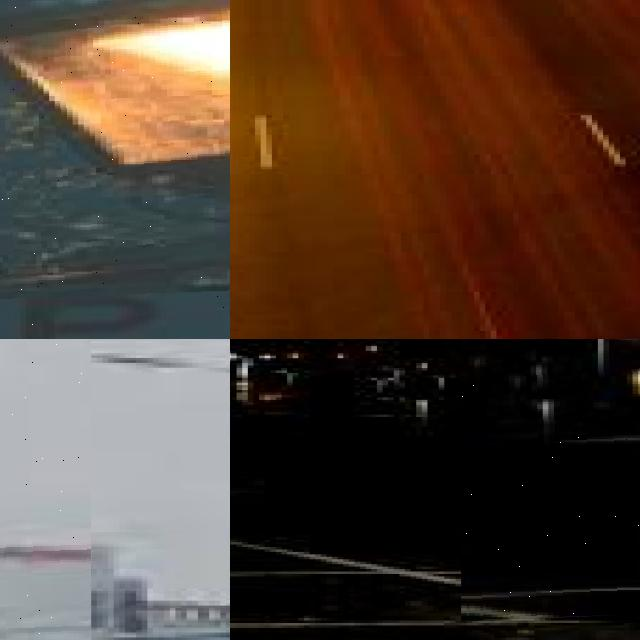street light: (0, 0, 230, 339), (461, 339, 640, 620), (91, 341, 230, 640), (0, 339, 91, 640), (230, 353, 281, 428), (584, 339, 626, 430)
